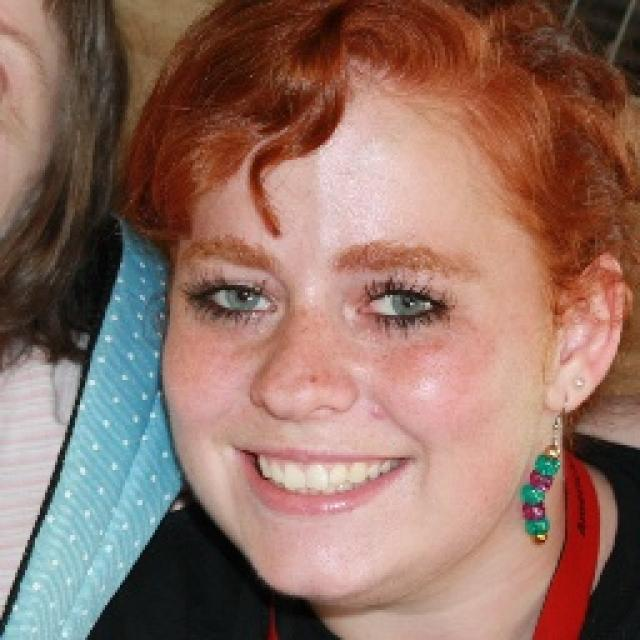earlobe: (548, 380, 588, 420)
eye: (195, 276, 281, 323), (364, 282, 444, 328)
nose: (247, 400, 355, 436)
wholeear: (542, 245, 627, 416)
